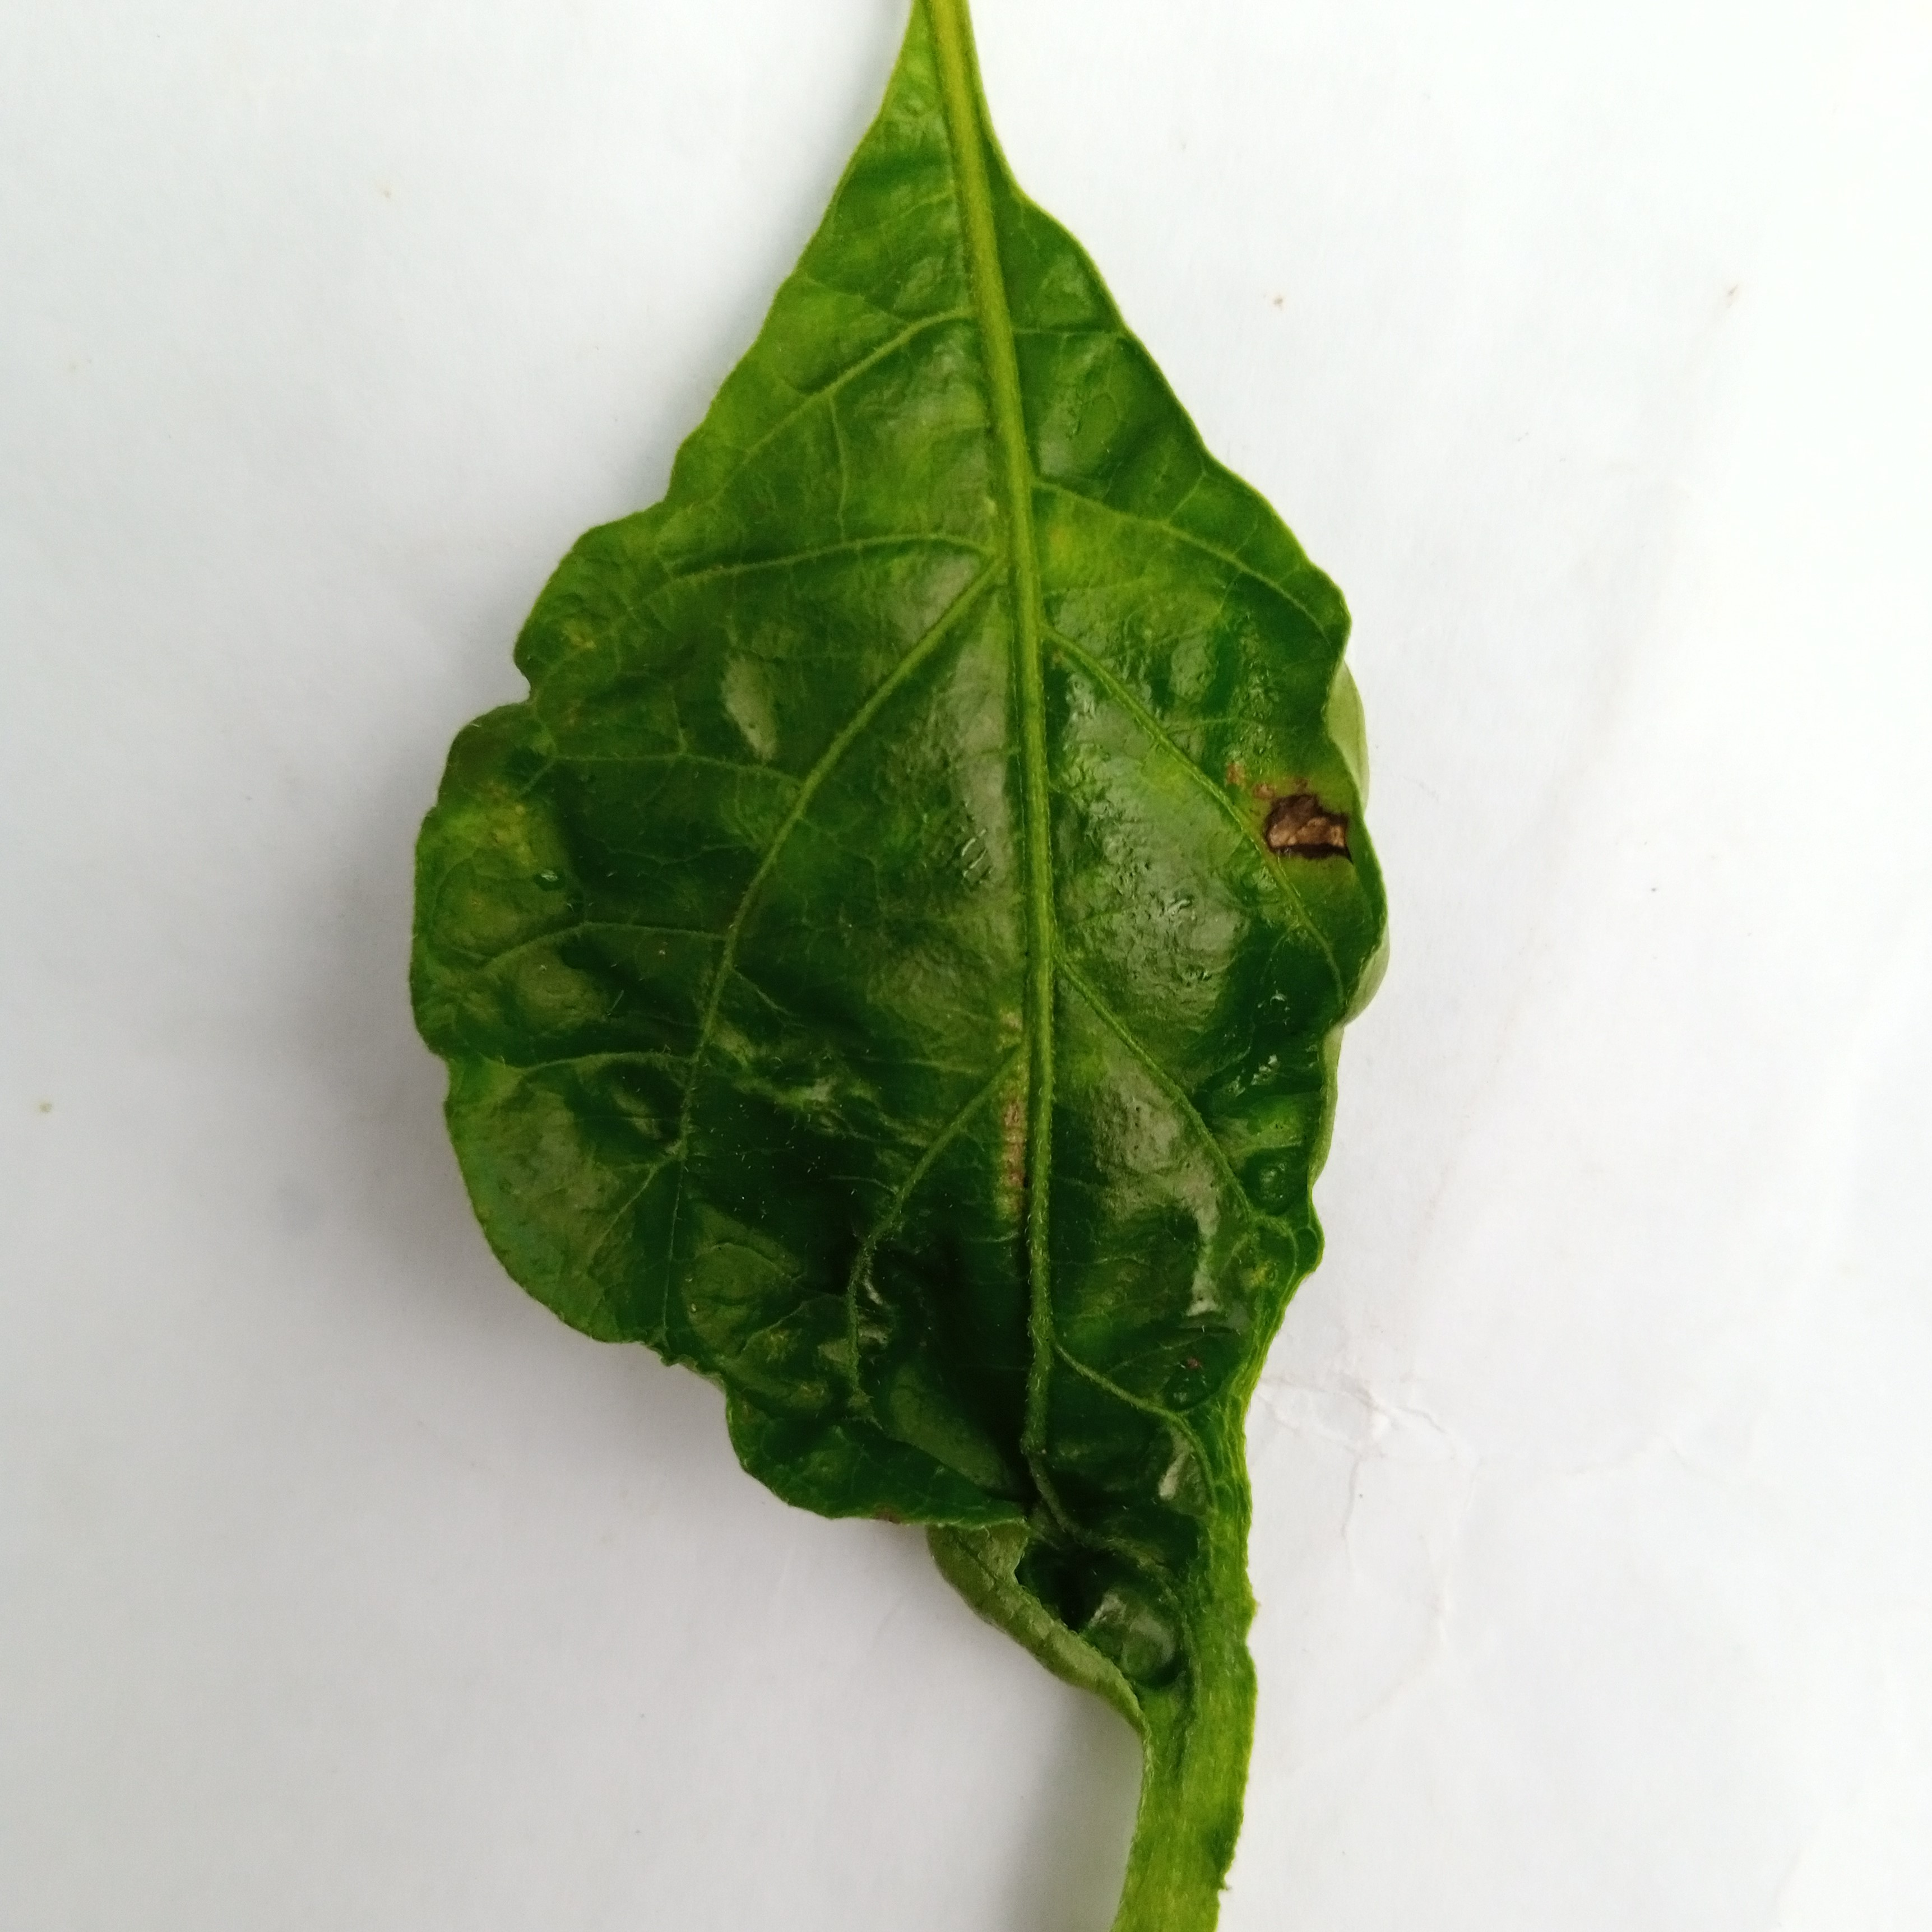Leaf: (287, 143, 1635, 1932)
